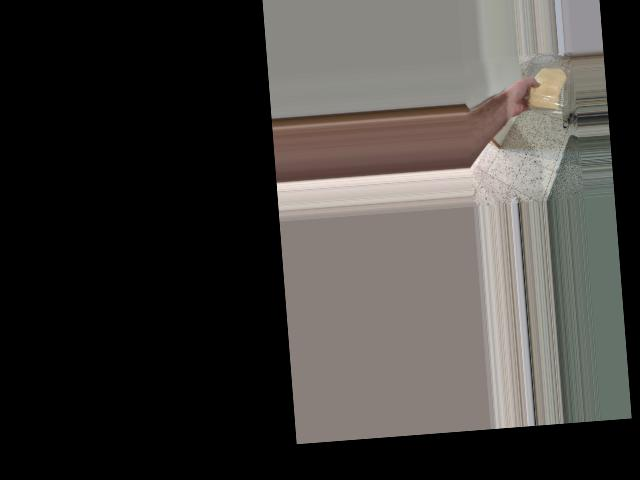cheese: (524, 64, 572, 116)
